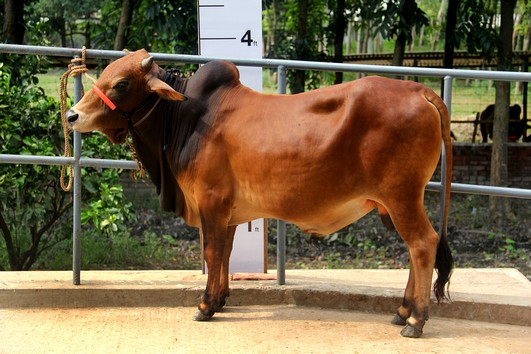cow: (58, 43, 458, 341)
